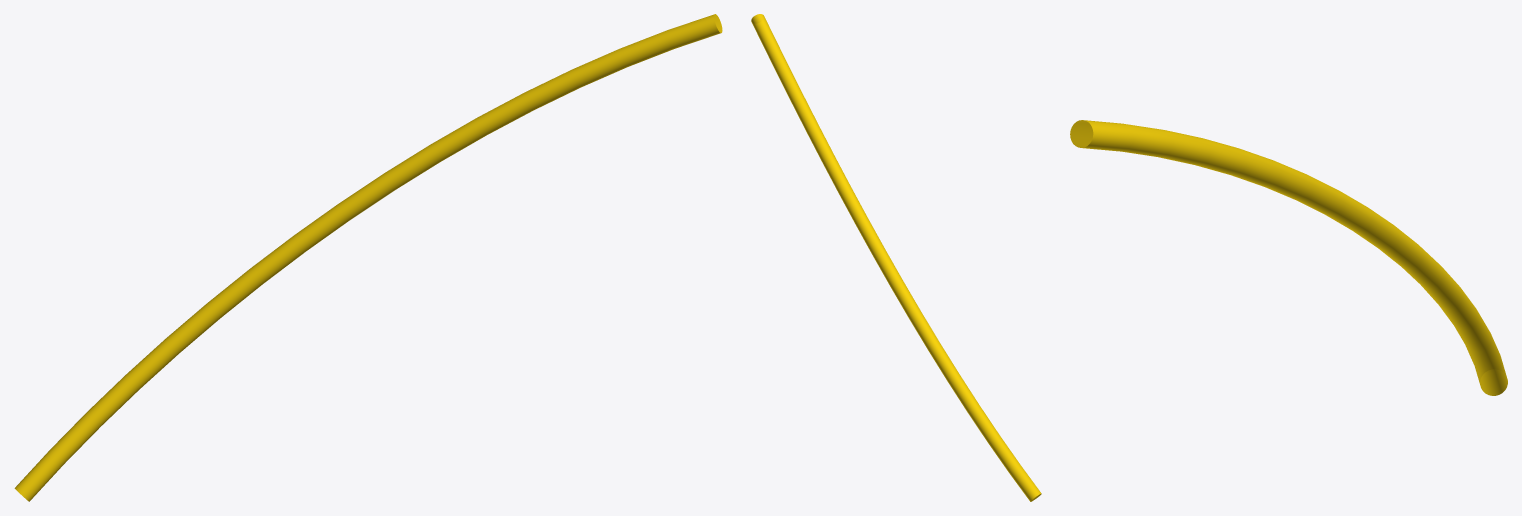
File: Event_421364160_track_36.fbx
The picture shows the model from 3 angles, left to right: view 1: azimuth 30°, elevation 25°; view 2: azimuth 150°, elevation 25°; view 3: azimuth 270°, elevation 25°; orthographic projection. The views are drawn at different scales.
Parts seen in each view (by area): view 1: Model; view 2: Model; view 3: Model.
Boxes of the visible parts, x1,y1,x2,y2 form: Model: (14,14,722,501); Model: (751,14,1041,501); Model: (1070,120,1507,395).
Bounding box in the file's own units: 1.28 × 1.01 × 0.6237.
